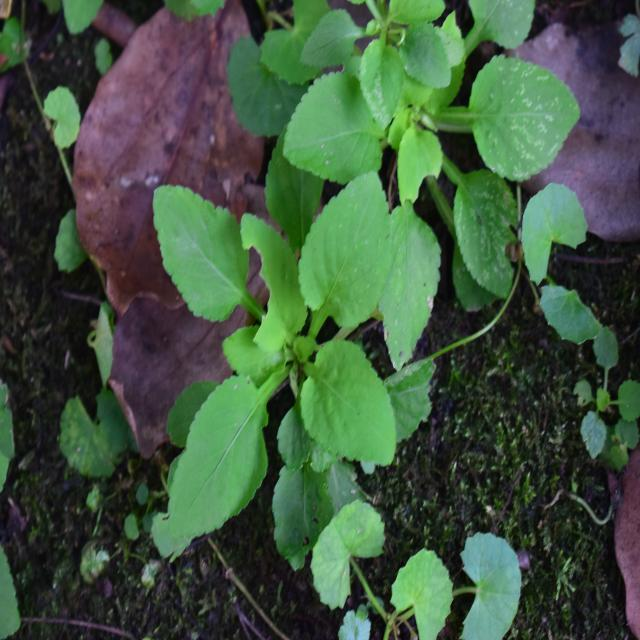Viola: (149, 161, 428, 528)
